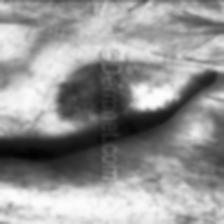Potentially Malignant Skin Tumors: (94, 92, 124, 111)
